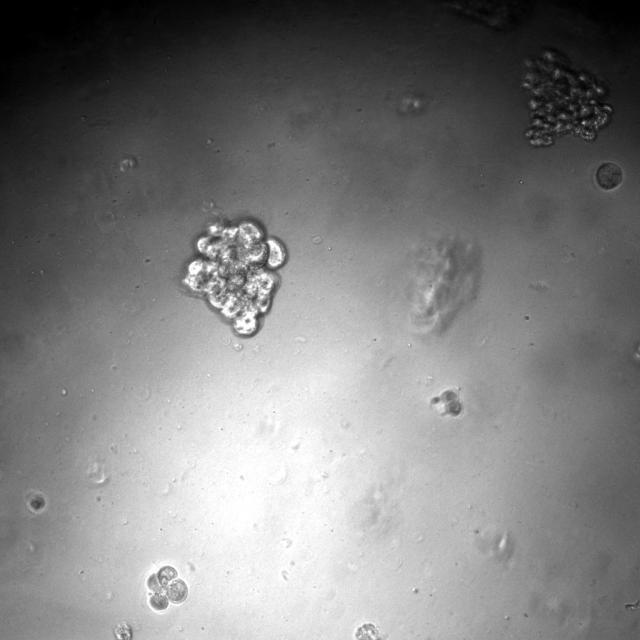organoid: (183, 218, 286, 336), (522, 49, 612, 147), (147, 565, 188, 611), (432, 389, 462, 416), (594, 162, 622, 190), (27, 490, 47, 514), (355, 622, 381, 639), (114, 621, 131, 639)
